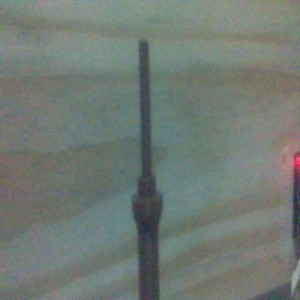obeng: (129, 37, 164, 300)
